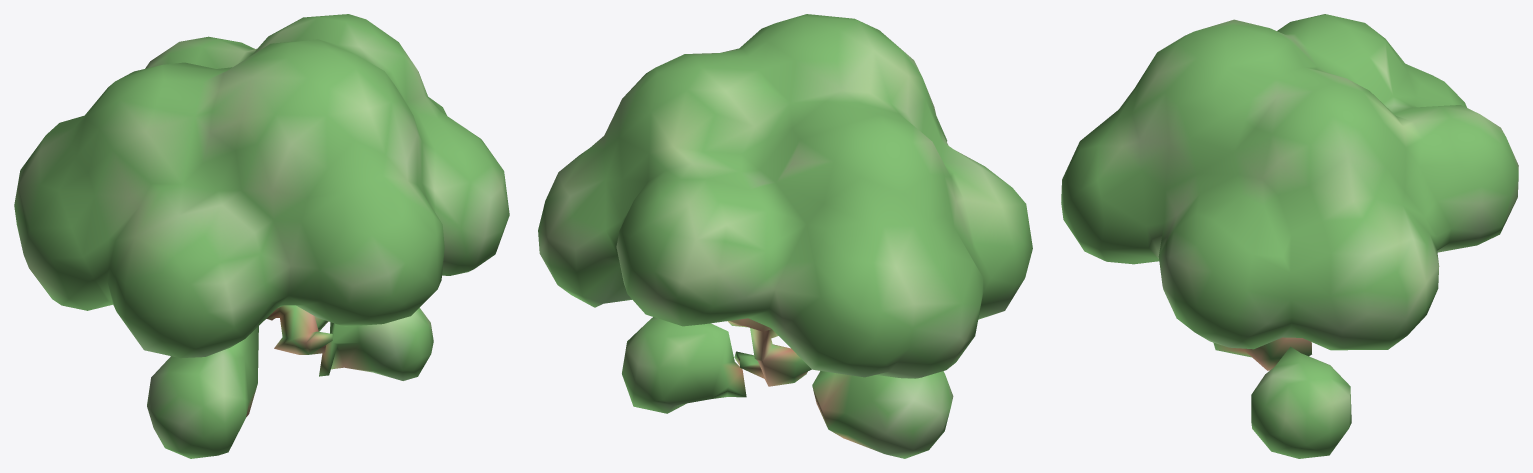
File: tree.fbx
3 views of the same model, side by side, from view 1: azimuth 30°, elevation 25°; view 2: azimuth 150°, elevation 25°; view 3: azimuth 270°, elevation 25° (orthographic). The views are drawn at different scales.
Visible parts, largest first — view 1: Major_tree; view 2: Major_tree; view 3: Major_tree.
Part boxes in pixels (x1,y1,x2,y2): Major_tree: (14, 14, 509, 458); Major_tree: (538, 14, 1032, 458); Major_tree: (1061, 14, 1518, 458).
Size of the model in its own units: 3.12 by 2.79 by 3.1.
1 material, 1 textured.
